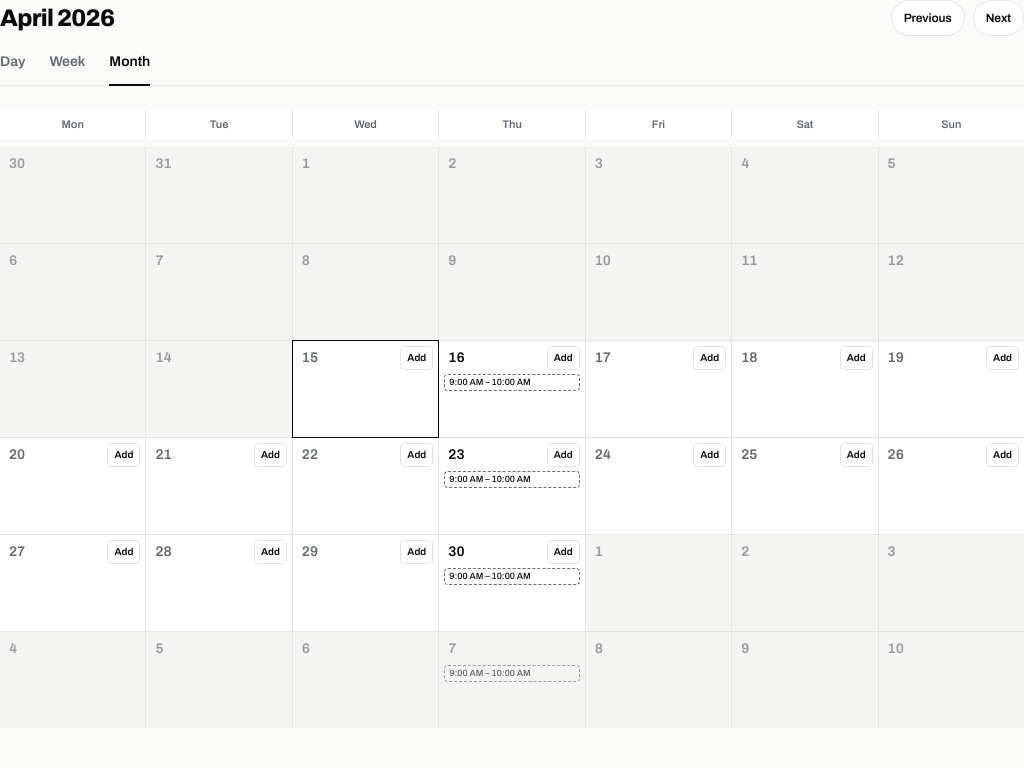
TeacherAvailabilityCalendar › blocks saving when no offering can back a legacy slot
The image size is (1024, 768).
Click the 4th button "Add".
click(856, 358)  # box left=840, top=346, right=872, bottom=370
(page scrolled)
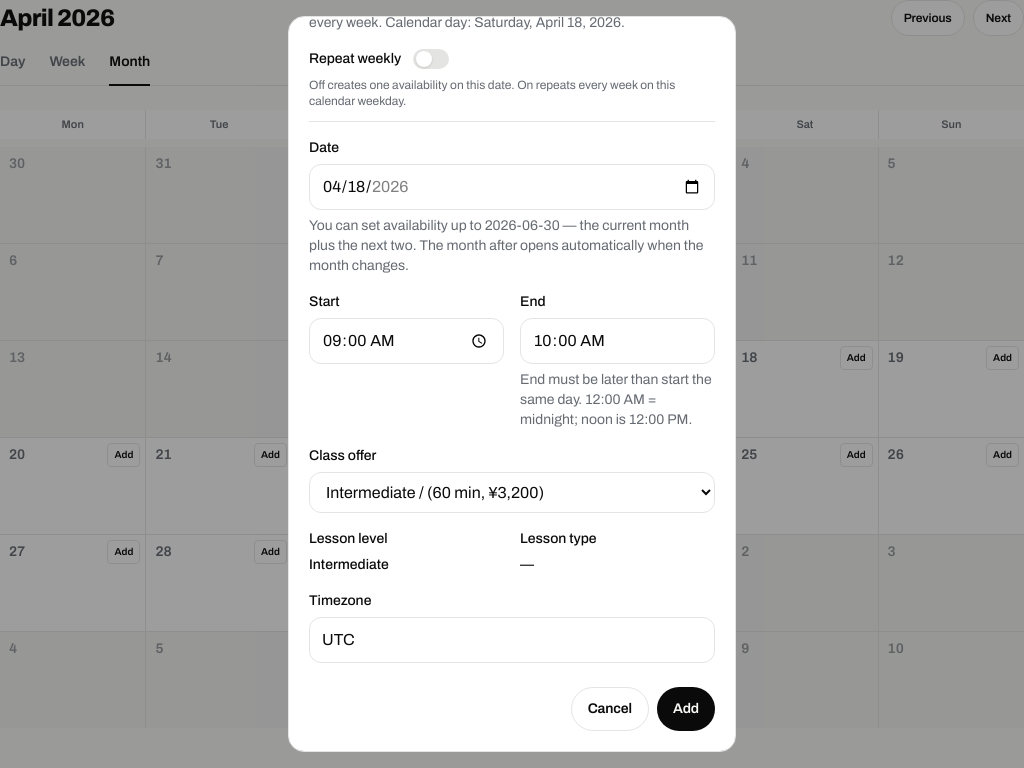
Click the button "Add".
click(686, 709)  # box left=657, top=687, right=715, bottom=731
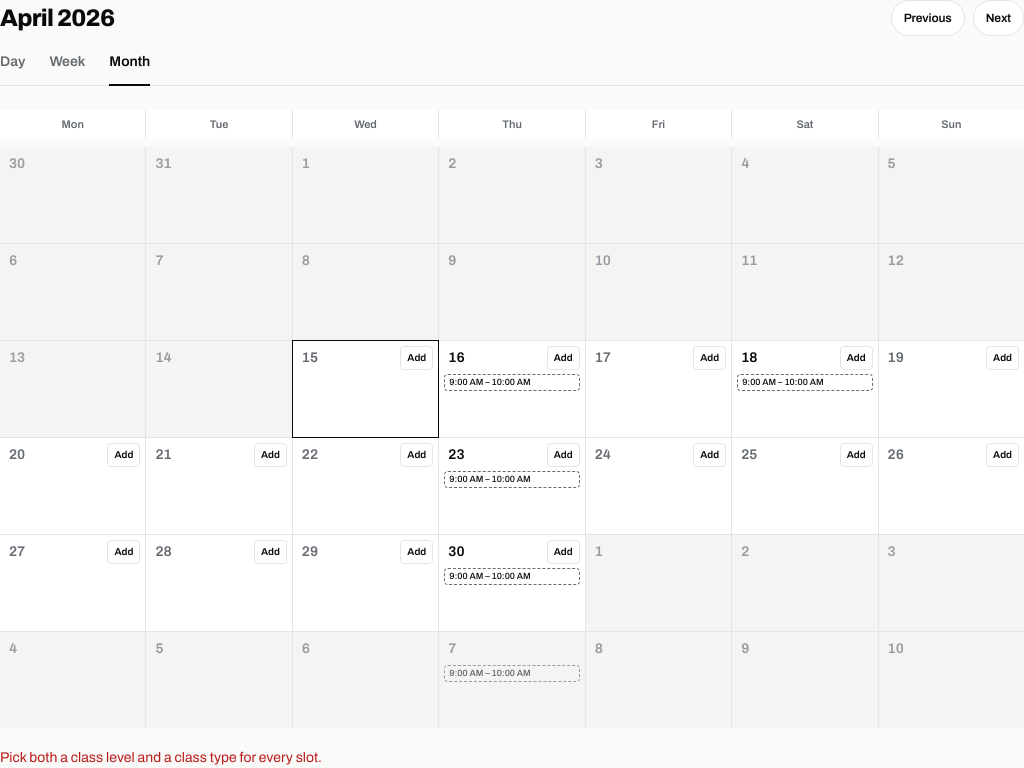
Now the text "Pick both a class level and a class type for every slot." is shown, box left=0, top=750, right=322, bottom=764
